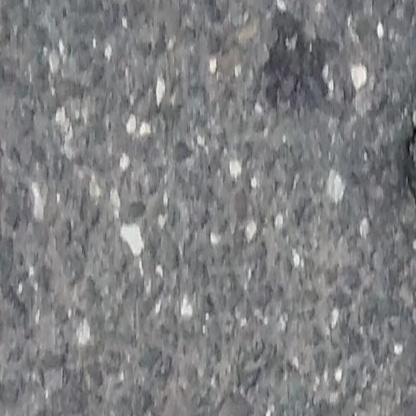Cracks: (397, 0, 416, 338)
